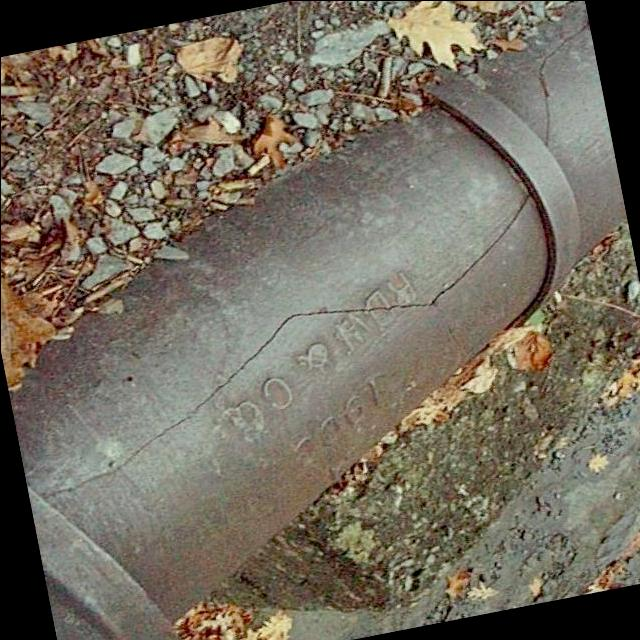defect: (34, 192, 531, 503), (533, 20, 586, 151)
